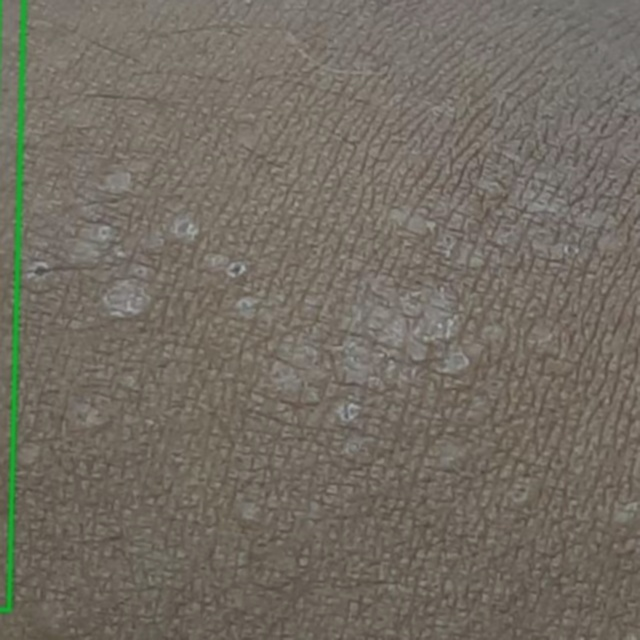Atopic Dermatitis: (0, 0, 23, 609)
